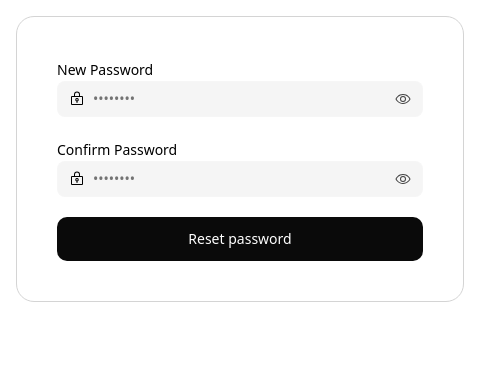
Test: ResetPasswordForm › should display validation errors for empty fields
Click the button "Reset password".
click(240, 239)  # box [57, 217, 423, 261]
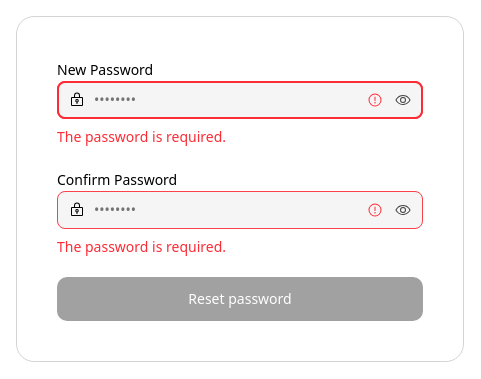
expect the text "The password is required." below "New Password" is shown: met, box [57, 127, 226, 146]
